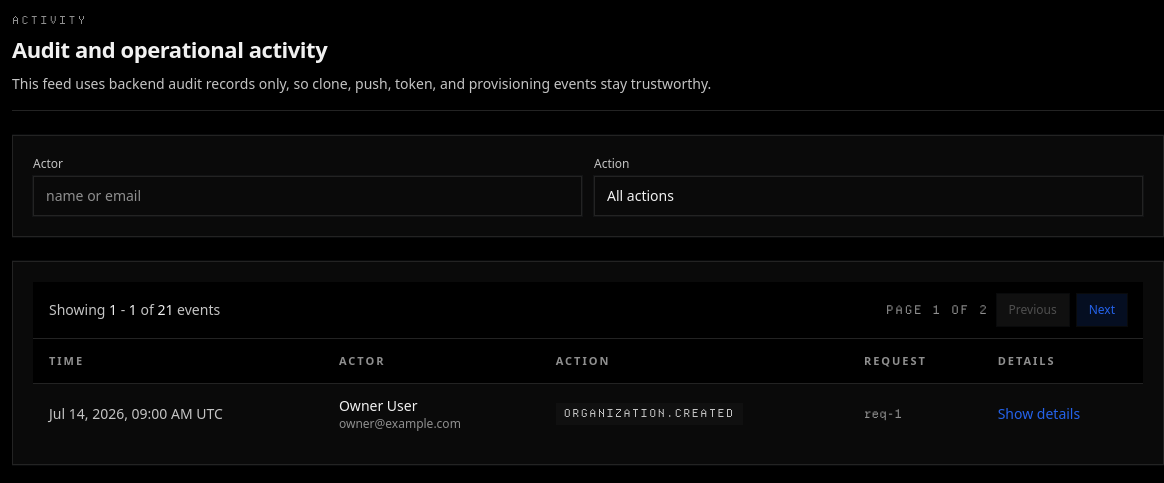
Test: AuditPage › pages through audit activity
Check: the heading "Audit and operational activity" is shown, box [12, 34, 327, 64]
Check: the text "Page 1 of 2" is shown, box [886, 302, 988, 318]
Click the button "Next" at (1102, 310), box [1077, 294, 1127, 326]
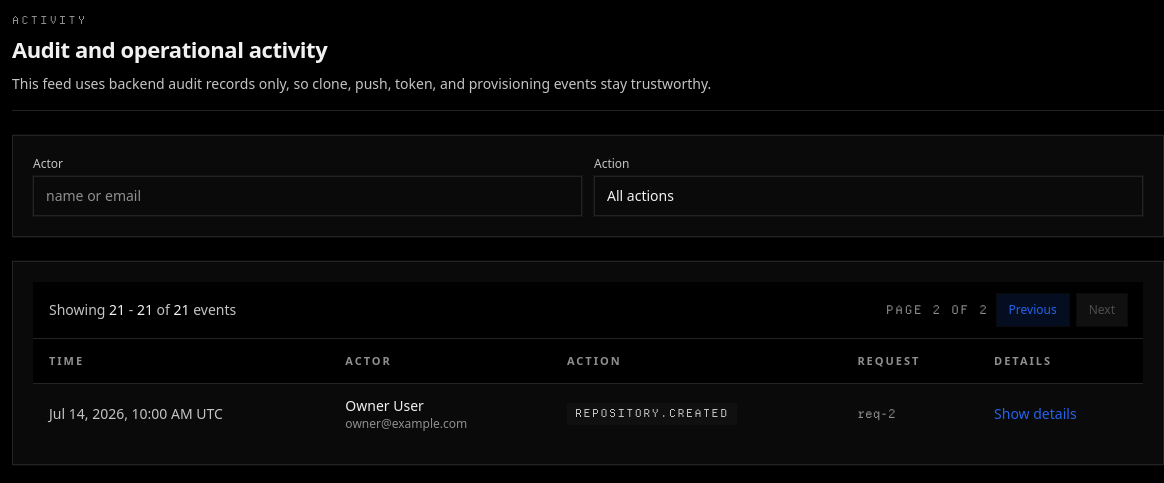
Check: the text "Page 2 of 2" is shown, box [886, 302, 988, 318]
Check: the text "req-2" is shown, box [841, 383, 978, 444]
Check: the text "req-1" is gone
